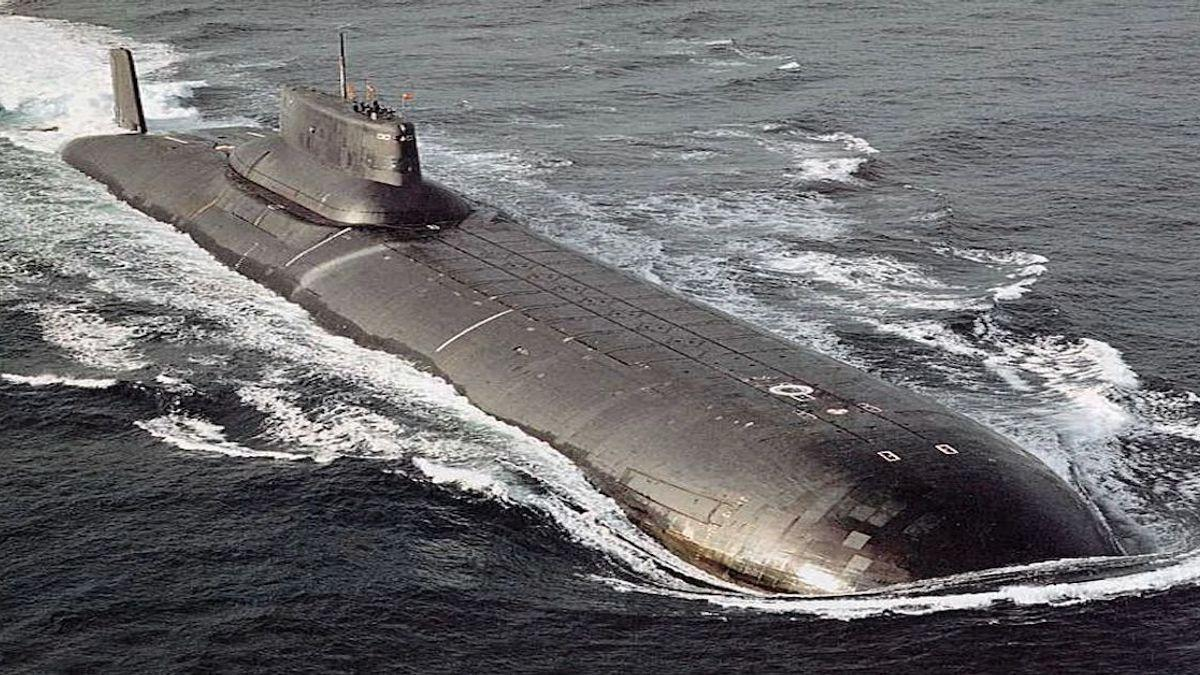Submarine: (27, 0, 1160, 623)
